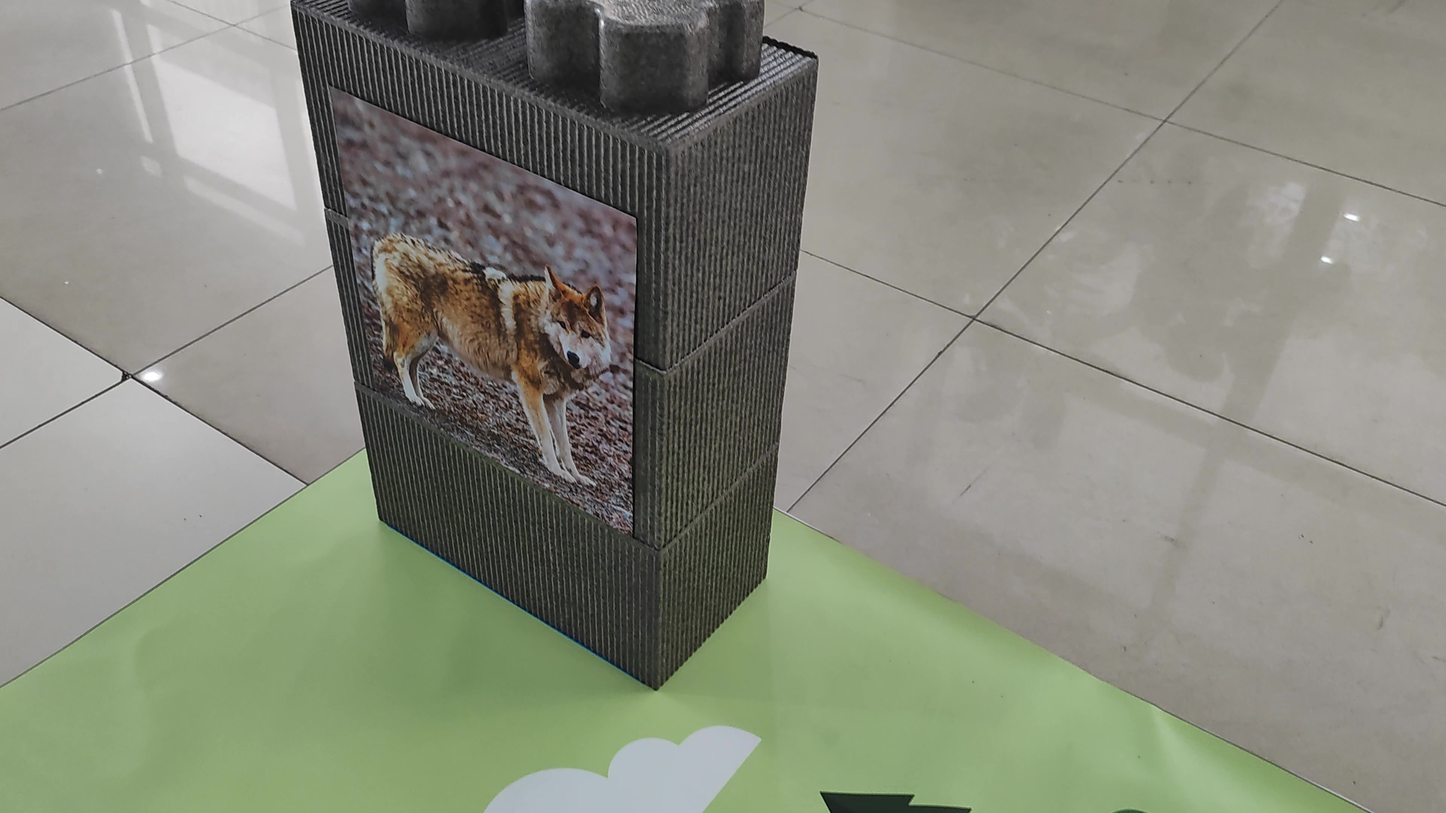wolf: (337, 190, 619, 457)
